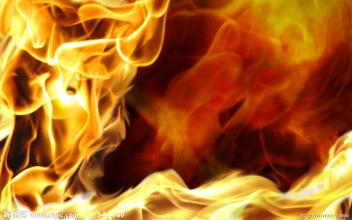fire: (2, 5, 111, 212)
